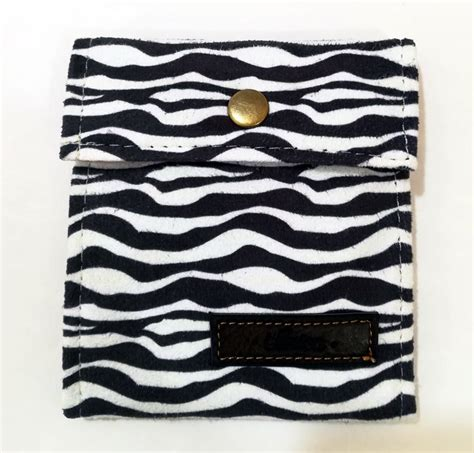gamuza: (62, 35, 420, 423)
